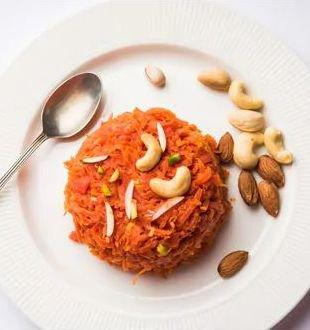Gajar ka halwa: (70, 109, 231, 273)
